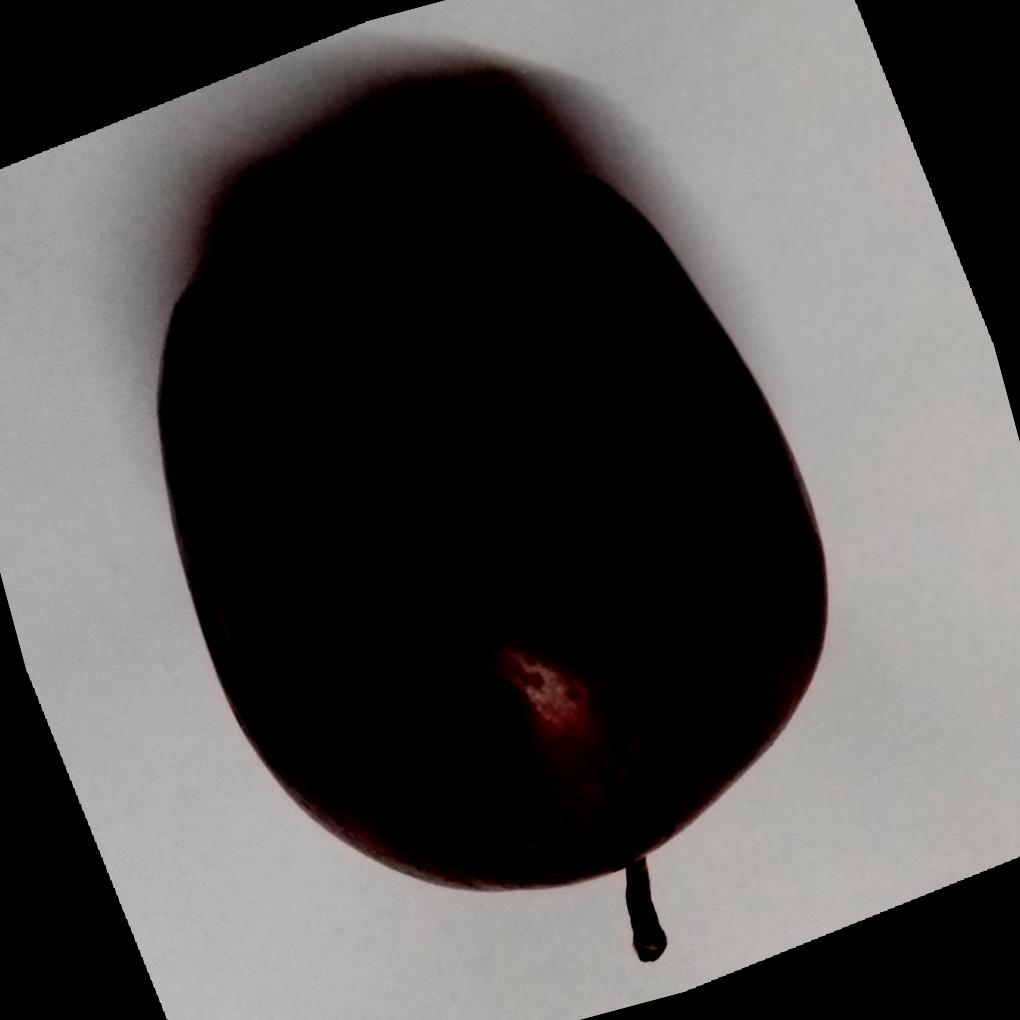FreshOrange: (151, 156, 827, 948)
